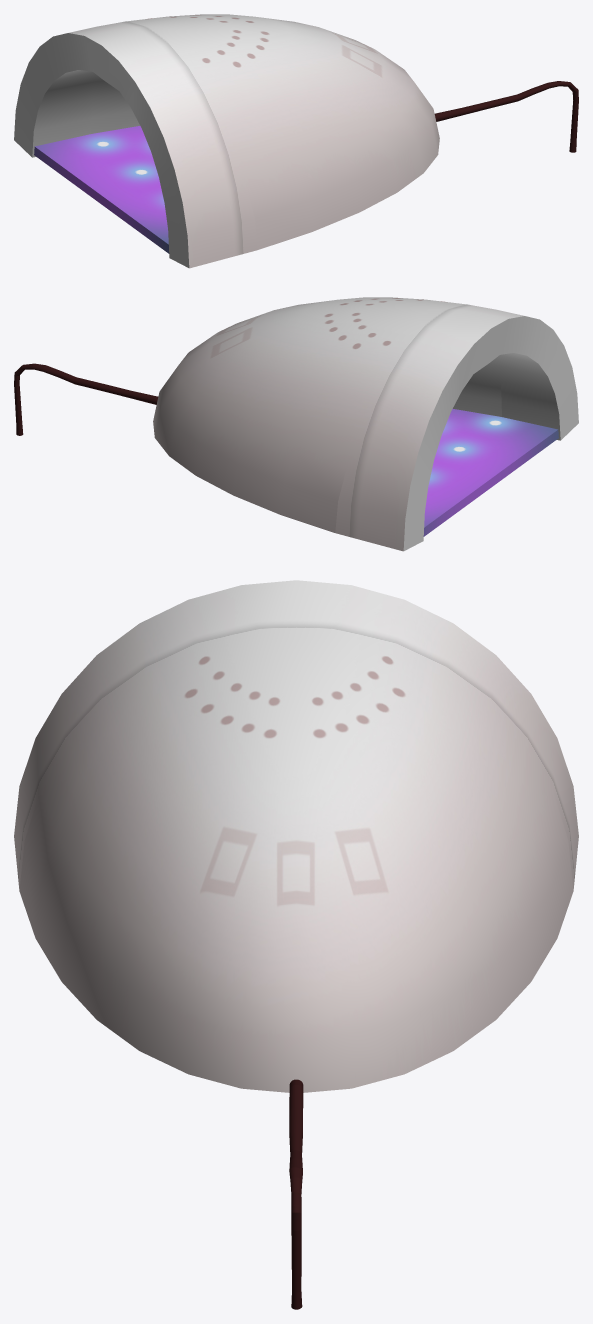
Rendered from Nail dryer_machine.fbx.
The picture shows the model from 3 angles, top to bottom: view 1: azimuth 30°, elevation 25°; view 2: azimuth 150°, elevation 25°; view 3: azimuth 270°, elevation 25°; orthographic projection. The views are drawn at different scales.
Parts seen in each view (by area): view 1: Wire; view 2: Wire; view 3: Wire.
Part boxes in pixels (<box>): Wire: <box>14,14,578,268</box>; Wire: <box>14,297,578,551</box>; Wire: <box>14,580,578,1309</box>.
Size of the model in its own units: 315 by 139 by 200.
Materials: 1 (1 with a texture image).
